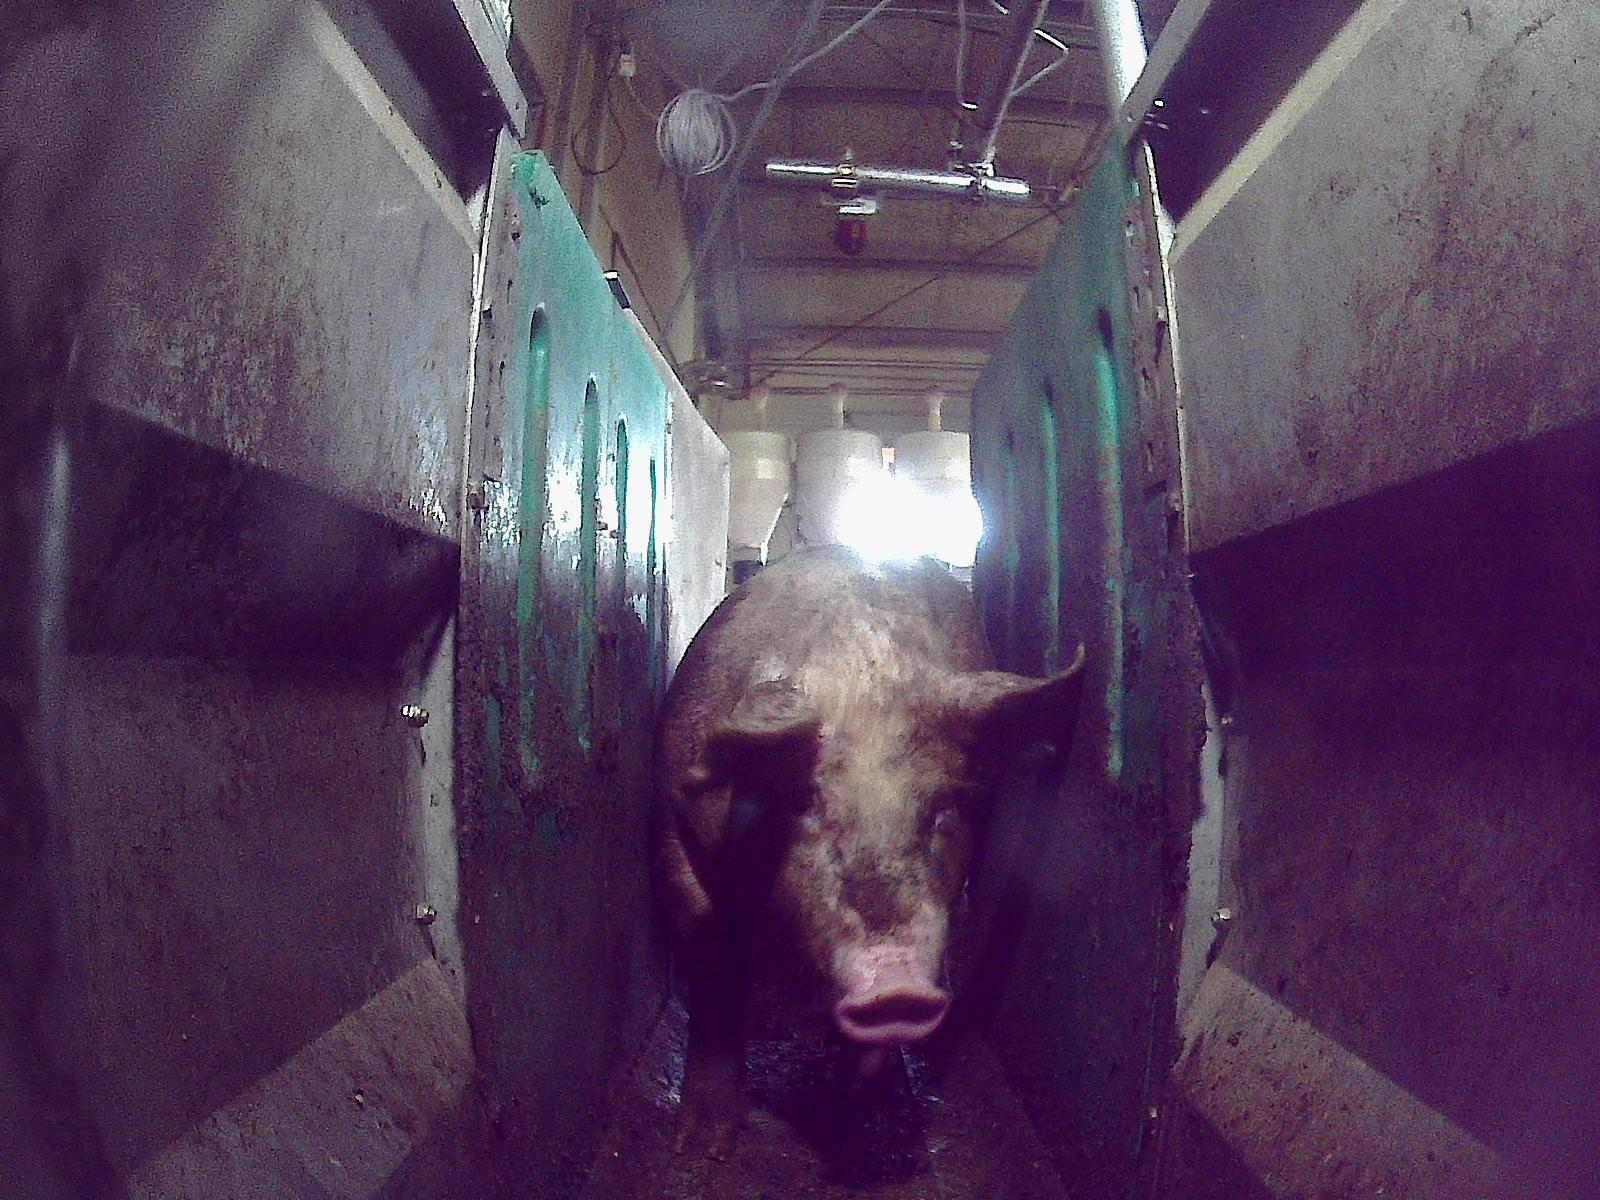Face: (743, 697, 967, 1044)
